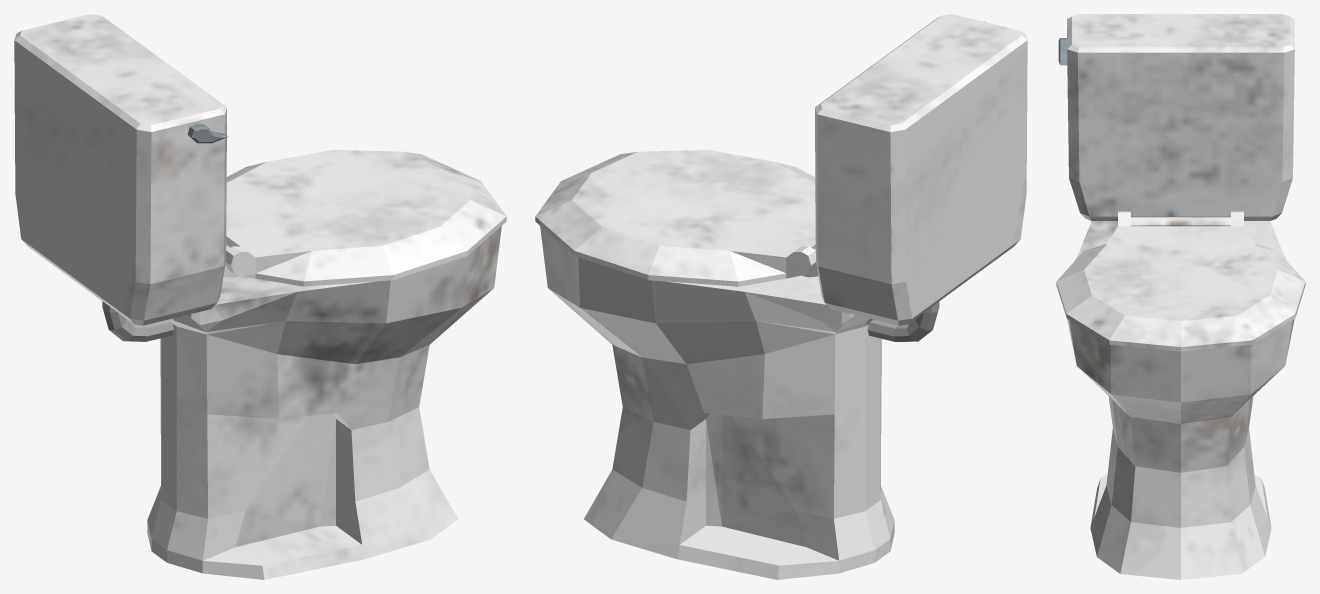
The model's file is toilet.fbx.
3 views of the same model, side by side, from view 1: azimuth 30°, elevation 25°; view 2: azimuth 150°, elevation 25°; view 3: azimuth 270°, elevation 25° (orthographic). The views are drawn at different scales.
Parts seen in each view (by area): view 1: Toilet, Toilet.002; view 2: Toilet, Toilet.002; view 3: Toilet, Toilet.002, Toilet.001.
Part boxes in pixels (left/top/right/bottom): Toilet: left=14, top=14, right=501, bottom=579; Toilet.002: left=225, top=149, right=506, bottom=286; Toilet: left=540, top=14, right=1027, bottom=579; Toilet.002: left=535, top=149, right=816, bottom=286; Toilet: left=1058, top=14, right=1294, bottom=579; Toilet.002: left=1056, top=211, right=1305, bottom=351; Toilet.001: left=1131, top=217, right=1230, bottom=226.
Bounding box in the file's own units: 69.06 × 80.86 × 43.54.
1 material, 1 textured.
